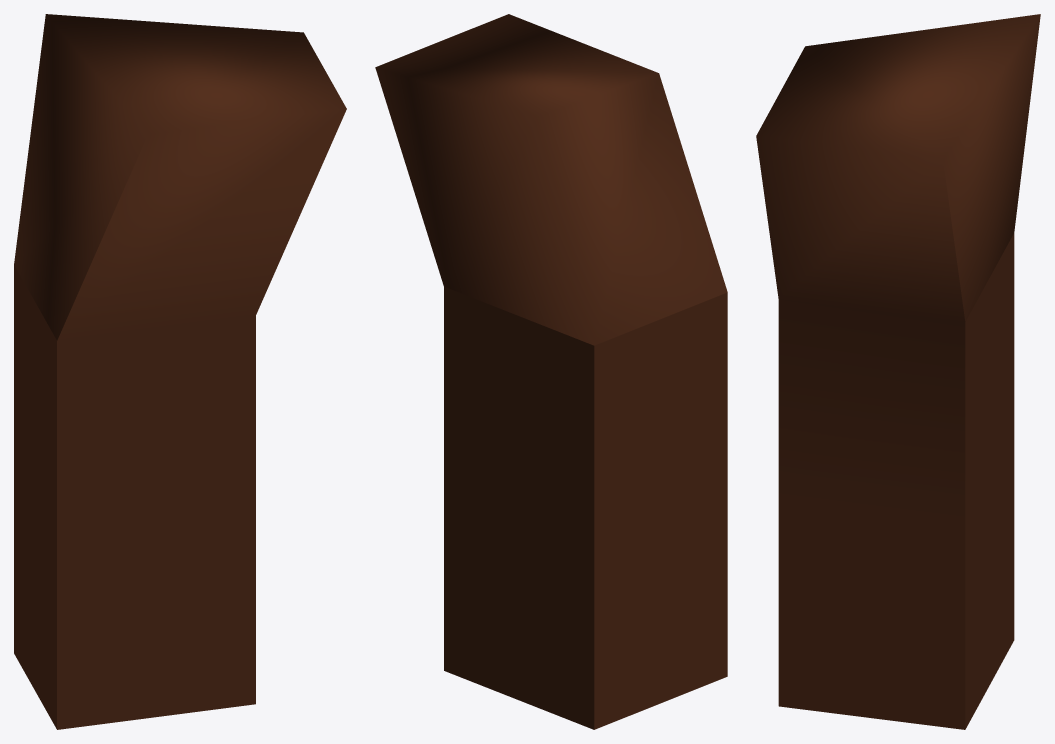
The model's file is broketree01.fbx.
3 views of the same model, side by side, from view 1: azimuth 30°, elevation 25°; view 2: azimuth 150°, elevation 25°; view 3: azimuth 270°, elevation 25° (orthographic). The views are drawn at different scales.
Visible parts, largest first — view 1: Tree 01; view 2: Tree 01; view 3: Tree 01.
Boxes of the visible parts, bbox=[...] form: Tree 01: bbox=[14, 14, 346, 729]; Tree 01: bbox=[375, 14, 727, 729]; Tree 01: bbox=[756, 14, 1040, 729].
Bounding box in the file's own units: 12.06 × 23.65 × 9.4.
